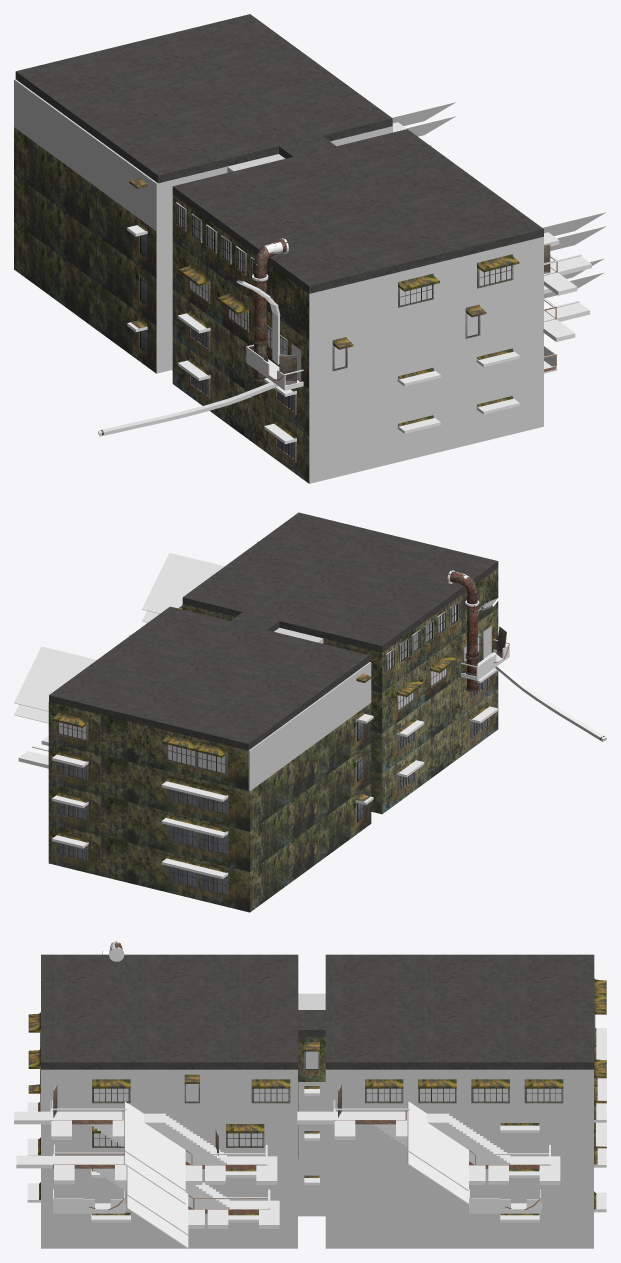
Rendered from ExteriorHD_A4.fbx.
3 views of the same model, one above another, from view 1: azimuth 30°, elevation 25°; view 2: azimuth 150°, elevation 25°; view 3: azimuth 270°, elevation 25° (orthographic). The views are drawn at different scales.
Visible parts, largest first — view 1: A4_Roof, Apt4_LOD, Apt4_HD, Wall_09, Wall_06, Pipe_Long; view 2: A4_Roof, Apt4_HD, Apt4_LOD, Wall_10, Col01 (14) (×2), Wall_09, Wall_06, Wall_12, Pipe_Long; view 3: Apt4_LOD, A4_Roof, Col01 (14) (×3), Col01 (15) (×3), Col01 (6) (×3), Apt4_HD, Col01 (11) (×3), Col01 (7) (×3), Col01 (13) (×3), A4_ExtStairs (×2), Wall_15.
Part boxes in pixels (<box>): A4_Roof: <box>15,14,543,293</box>; Apt4_LOD: <box>14,79,543,483</box>; Apt4_HD: <box>14,127,556,483</box>; Wall_09: <box>172,194,309,340</box>; Wall_06: <box>172,242,308,388</box>; Pipe_Long: <box>252,278,268,342</box>; A4_Roof: <box>49,512,498,750</box>; Apt4_HD: <box>48,671,498,912</box>; Apt4_LOD: <box>59,605,491,791</box>; Wall_10: <box>49,702,248,790</box>; Col01 (14) (×2): <box>14,553,224,711</box>; Wall_09: <box>382,568,498,692</box>; Wall_06: <box>382,608,498,733</box>; Wall_12: <box>323,638,382,692</box>; Pipe_Long: <box>465,605,478,658</box>; Apt4_LOD: <box>41,993,593,1248</box>; A4_Roof: <box>41,954,594,1069</box>; Col01 (14) (×3): <box>124,1101,468,1235</box>; Col01 (15) (×3): <box>124,1151,468,1248</box>; Col01 (6) (×3): <box>14,1111,372,1168</box>; Apt4_HD: <box>38,1028,606,1215</box>; Col01 (11) (×3): <box>256,1156,560,1228</box>; Col01 (7) (×3): <box>51,1111,355,1184</box>; Col01 (13) (×3): <box>205,1165,508,1228</box>; A4_ExtStairs (×2): <box>51,1100,548,1168</box>; Wall_15: <box>298,1037,325,1081</box>.
Bounding box in the file's own units: 36.02 × 14.33 × 38.45.
